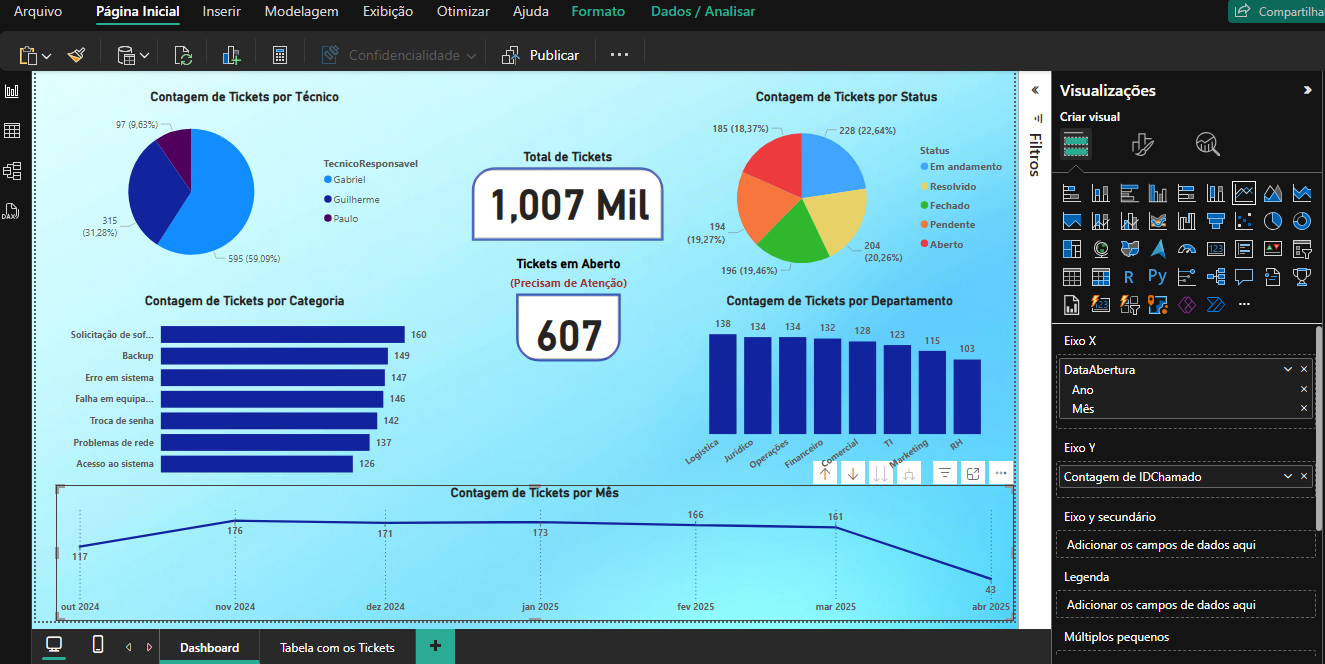

Layout of this report page (visuals, bound fields, positions):
{"tool":"powerbi","page":{"name":"Dashboard","canvas":[1280,720],"ordinal":0},"visuals":[{"type":"pieChart","title":"Contagem de Tickets por Status","fields":{"Category":["chamados.Status"],"Y":["CountNonNull(chamados.IDChamado)"]},"box":[843.7,23.4,436.3,267],"z":0},{"type":"pieChart","title":"Contagem de Tickets por Técnico","fields":{"Category":["chamados.TecnicoResponsavel"],"Y":["CountNonNull(chamados.IDChamado)"]},"box":[26.2,23.4,494.1,250.5],"z":1},{"type":"clusteredBarChart","title":"Contagem de Tickets por Categoria","fields":{"Category":["chamados.Categoria"],"Y":["Count(chamados.IDChamado)"]},"box":[26.2,290.4,494.1,251.9],"z":2},{"type":"cardVisual","title":"Total de Tickets","fields":{"Data":["Count(chamados.IDChamado)"]},"box":[565.7,101.8,261.5,125.2],"z":3},{"type":"cardVisual","title":"Tickets em Aberto","fields":{"Data":["Count(chamados.IDChamado)"]},"box":[602.8,242.2,187.2,143.1],"z":4},{"type":"lineChart","title":"Contagem de Tickets por Mês","fields":{"Category":["chamados.DataAbertura.Variation.Hierarquia de datas.Ano","chamados.DataAbertura.Variation.Hierarquia de datas.Mês"],"Y":["CountNonNull(chamados.IDChamado)"]},"box":[26.2,542.3,1253.8,177.5],"z":5},{"type":"columnChart","title":"Contagem de Tickets por Departamento","fields":{"Category":["chamados.Departamento"],"Y":["CountNonNull(chamados.IDChamado)"]},"box":[843.7,290.4,418.4,251.9],"z":6}]}

Visuals, with their boxes on the page's 1280x720 design canvas (x1, y1, x2, y2). These are canvas units, not pixel positions in the 1325x664 screenshot, which may show the page scaled, cropped or inside an application window:
"Contagem de Tickets por Status" pieChart: (844,23,1280,290)
"Contagem de Tickets por Técnico" pieChart: (26,23,520,274)
"Contagem de Tickets por Categoria" clusteredBarChart: (26,290,520,542)
"Total de Tickets" cardVisual: (566,102,827,227)
"Tickets em Aberto" cardVisual: (603,242,790,385)
"Contagem de Tickets por Mês" lineChart: (26,542,1280,720)
"Contagem de Tickets por Departamento" columnChart: (844,290,1262,542)
